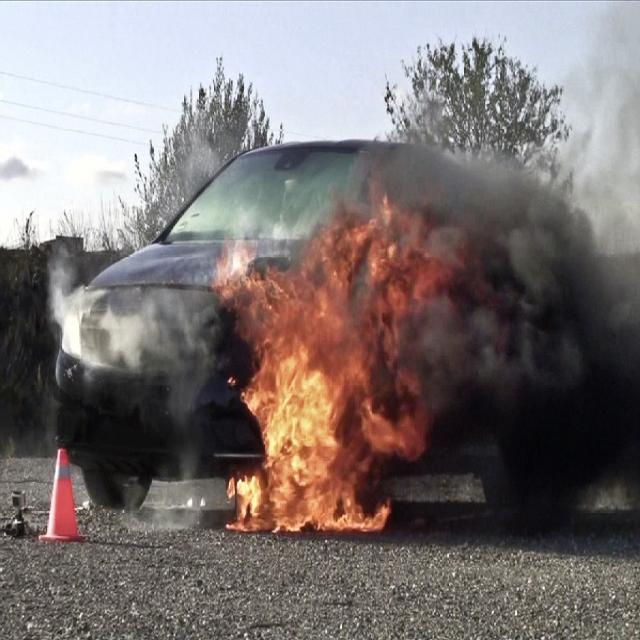fire: (234, 197, 440, 536)
